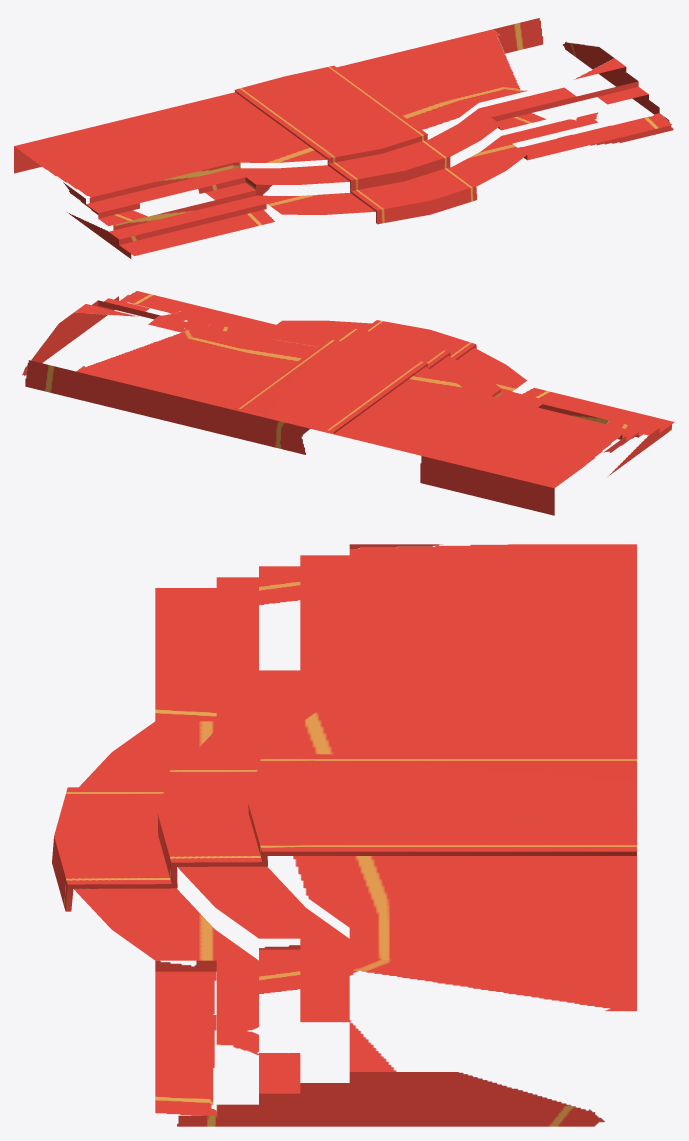
File: Obj_tarina.fbx
3 views of the same model, one above another, from view 1: azimuth 30°, elevation 25°; view 2: azimuth 150°, elevation 25°; view 3: azimuth 270°, elevation 25° (orthographic). The views are drawn at different scales.
Parts seen in each view (by area): view 1: Obj_tarina_rey, Obj_tarina_rey.001; view 2: Obj_tarina_rey, Obj_tarina_rey.001; view 3: Obj_tarina_rey, Obj_tarina_rey.001.
Part boxes in pixels (x1,y1,x2,y2): Obj_tarina_rey: (14, 18, 673, 258); Obj_tarina_rey.001: (234, 65, 476, 224); Obj_tarina_rey: (22, 291, 674, 515); Obj_tarina_rey.001: (234, 320, 476, 433); Obj_tarina_rey: (74, 544, 636, 1126); Obj_tarina_rey.001: (52, 754, 636, 911).
Size of the model in its own units: 16 by 0.8797 by 7.5.
